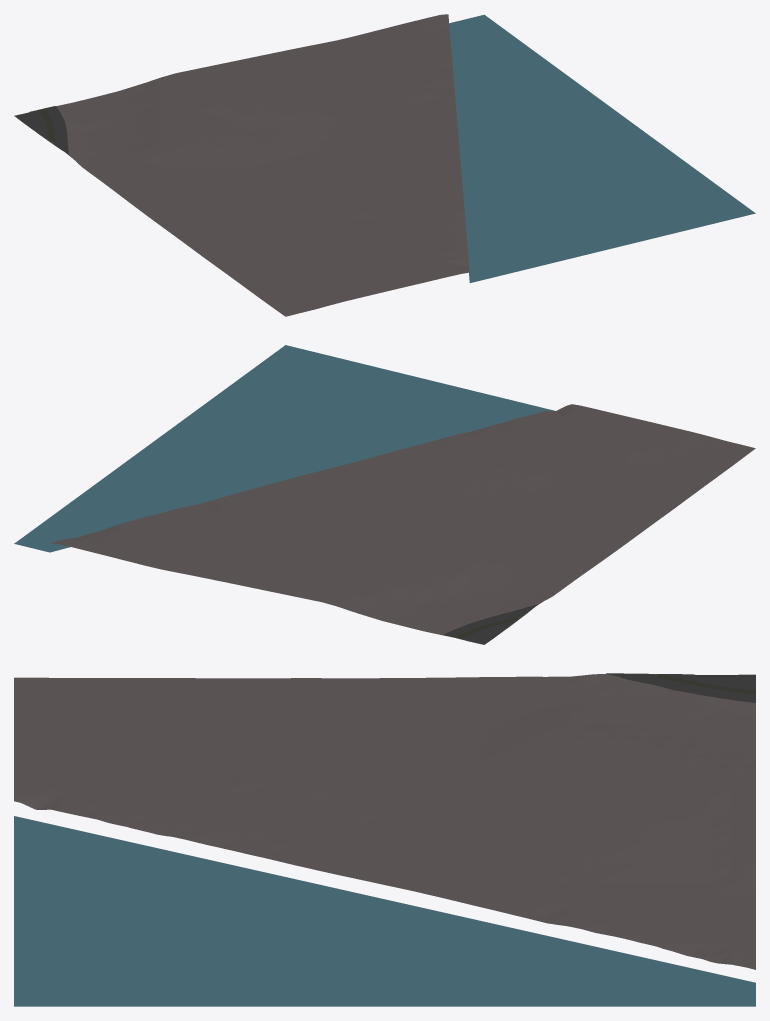
3 views of the same model, one above another, from view 1: azimuth 30°, elevation 25°; view 2: azimuth 150°, elevation 25°; view 3: azimuth 270°, elevation 25° (orthographic). The views are drawn at different scales.
Parts seen in each view (by area): view 1: c_m14_p13; view 2: c_m14_p13; view 3: c_m14_p13.
Boxes of the visible parts, box(x1,y1,x2,y2) form: c_m14_p13: box(14, 14, 755, 316); c_m14_p13: box(14, 345, 755, 644); c_m14_p13: box(14, 673, 755, 1006).
Bounding box in the file's own units: 128 × 4.36 × 128.
